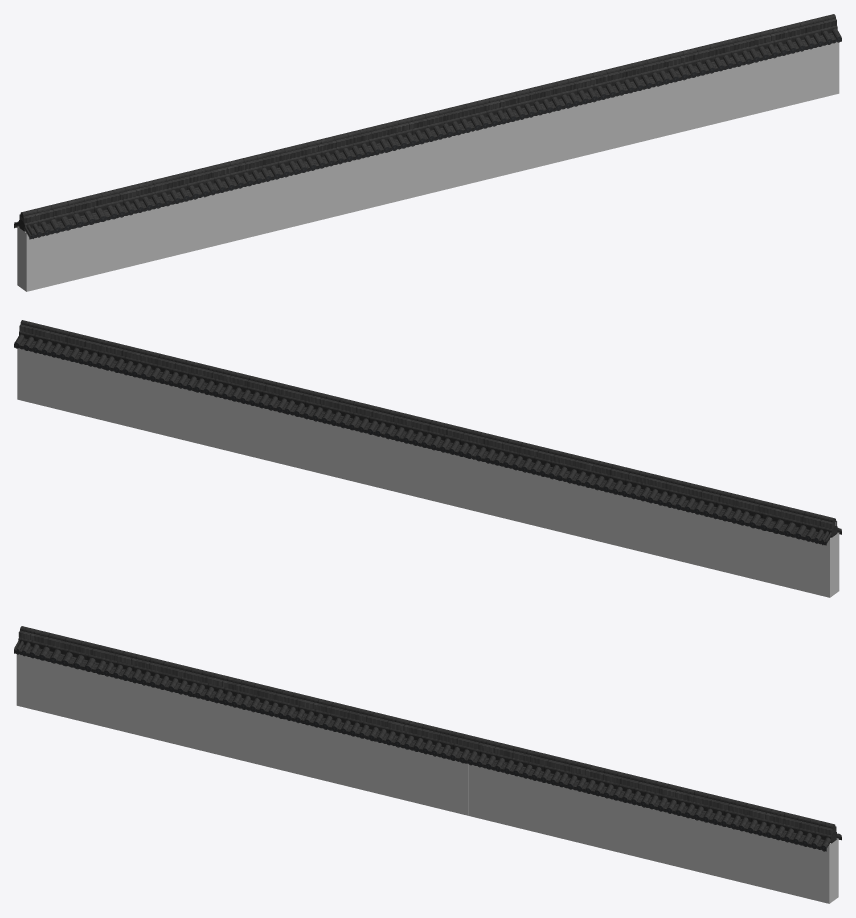
File: SM_JSH_HG_StoneWallH_Splines_7.fbx
The picture shows the model from 3 angles, top to bottom: view 1: azimuth 30°, elevation 25°; view 2: azimuth 150°, elevation 25°; view 3: azimuth 330°, elevation 25°; orthographic projection.
Visible parts, largest first — view 1: SM_JSH_HG_StoneWallH_Splines_7; view 2: SM_JSH_HG_StoneWallH_Splines_7; view 3: SM_JSH_HG_StoneWallH_Splines_7.
Part boxes in pixels (bbox=[...]): SM_JSH_HG_StoneWallH_Splines_7: bbox=[14, 14, 841, 291]; SM_JSH_HG_StoneWallH_Splines_7: bbox=[14, 320, 841, 597]; SM_JSH_HG_StoneWallH_Splines_7: bbox=[14, 626, 841, 903].
Size of the model in its own units: 1992 by 65.49 by 178.
